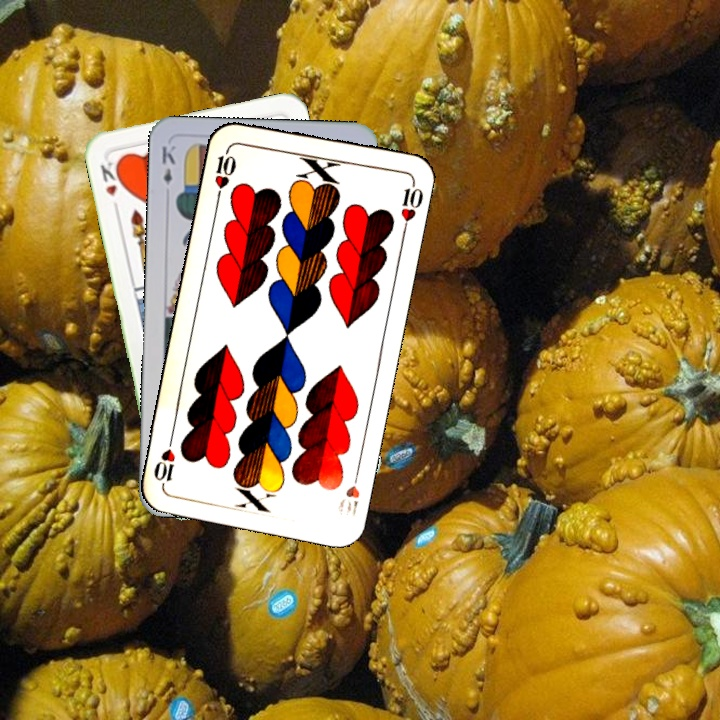EK: (157, 141, 178, 187)
H10: (210, 143, 239, 201), (341, 464, 362, 518)
HK: (96, 155, 126, 198)
